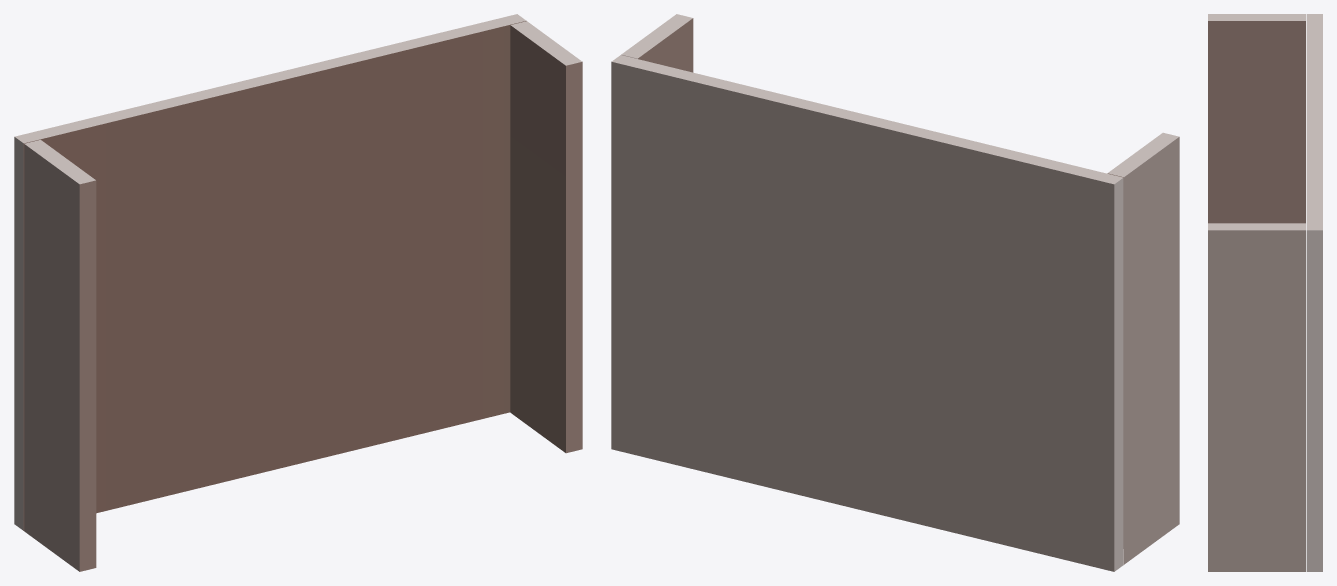
File: coffee-table.glb
The picture shows the model from 3 angles, left to right: view 1: azimuth 30°, elevation 25°; view 2: azimuth 150°, elevation 25°; view 3: azimuth 270°, elevation 25°; orthographic projection. The views are drawn at different scales.
Visible parts, largest first — view 1: coffee_table_011; view 2: coffee_table_011; view 3: coffee_table_011.
Part boxes in pixels (x1,y1,x2,y2): coffee_table_011: [14, 14, 582, 571]; coffee_table_011: [611, 14, 1179, 571]; coffee_table_011: [1208, 14, 1322, 571].
Size of the model in its own units: 1.17 by 0.8611 by 0.2626.
Materials: 1 (1 with a texture image).
